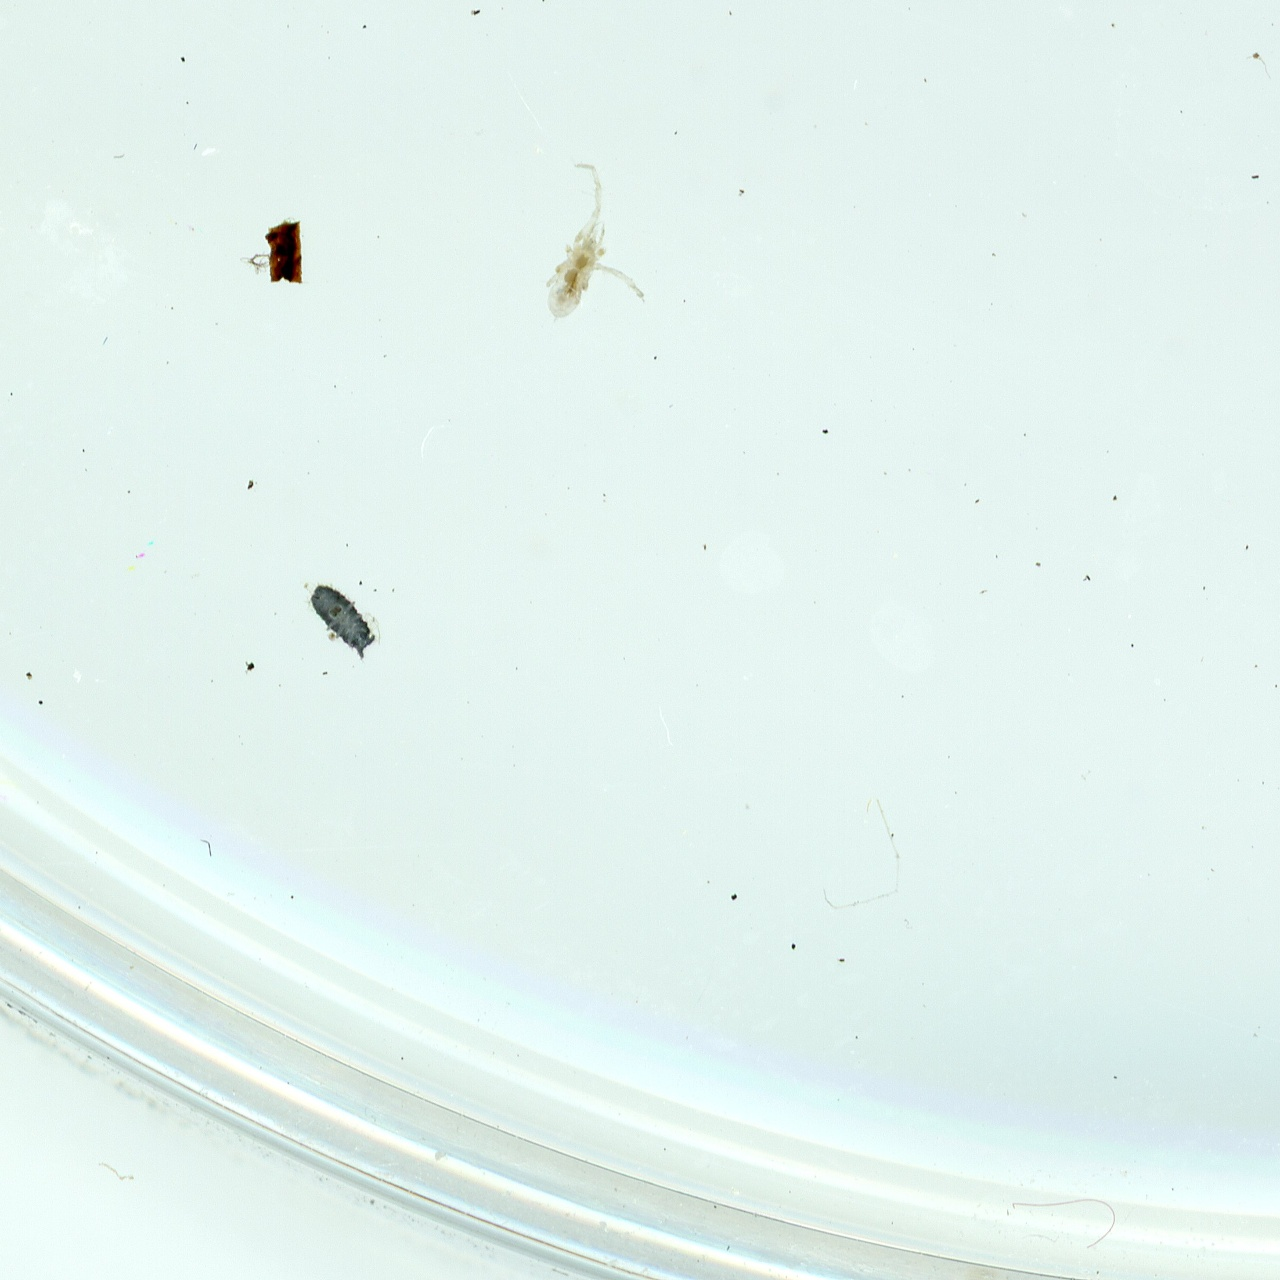arthropod: (520, 155, 685, 352), (297, 576, 388, 665)
